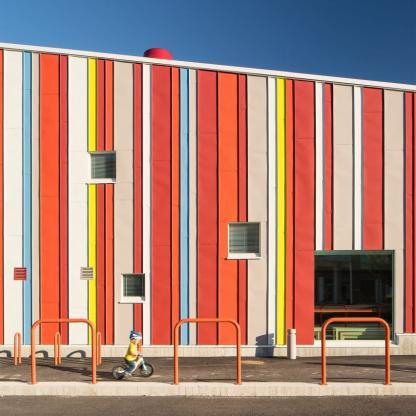Dont: (318, 317, 393, 386), (28, 318, 101, 385), (171, 318, 243, 385), (111, 331, 155, 381), (287, 329, 296, 359), (54, 332, 61, 366)
Door: (14, 332, 21, 365)
Facade: (0, 42, 416, 356), (1, 86, 416, 356)
Floor Slab: (0, 205, 416, 210)
Ground Floor: (0, 209, 416, 356)
Top Floor: (0, 92, 416, 205)
Window: (314, 250, 395, 341), (228, 222, 260, 255), (87, 151, 116, 182), (121, 274, 145, 299)
